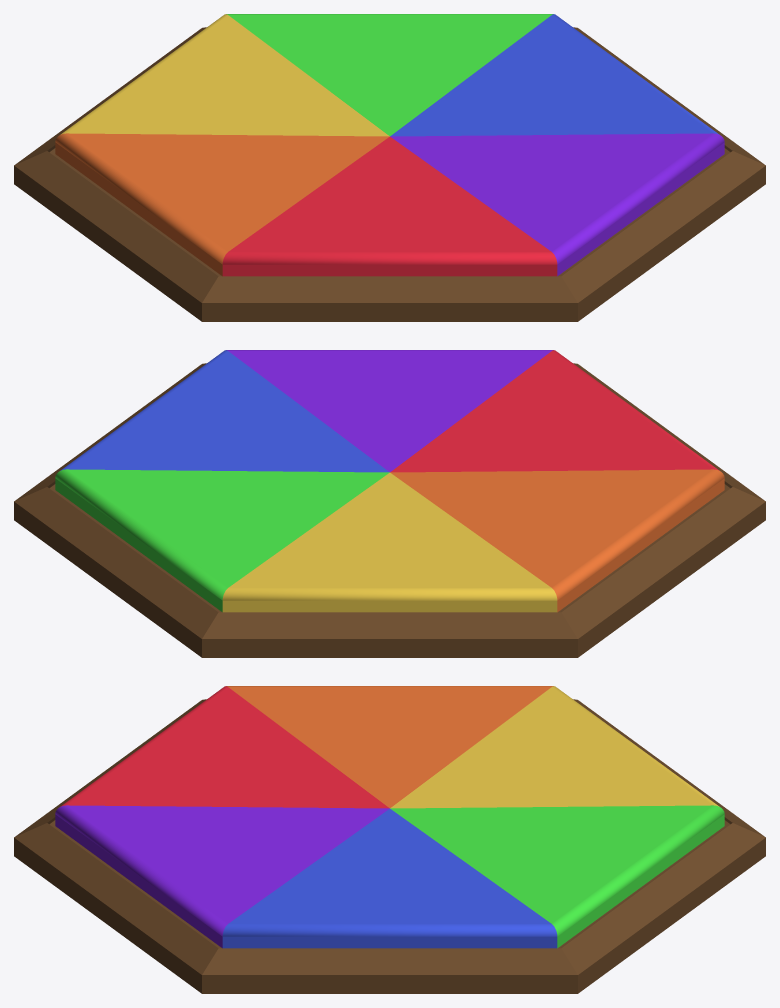
The model's file is Platform.fbx.
3 views of the same model, one above another, from view 1: azimuth 30°, elevation 25°; view 2: azimuth 150°, elevation 25°; view 3: azimuth 270°, elevation 25° (orthographic).
Parts seen in each view (by area): view 1: Cylinder.003; view 2: Cylinder.003; view 3: Cylinder.003.
Part boxes in pixels (left/top/right/bottom): Cylinder.003: left=14, top=14, right=765, bottom=321; Cylinder.003: left=14, top=350, right=765, bottom=657; Cylinder.003: left=14, top=686, right=765, bottom=993.
Bounding box in the file's own units: 346 × 29.8 × 400.
